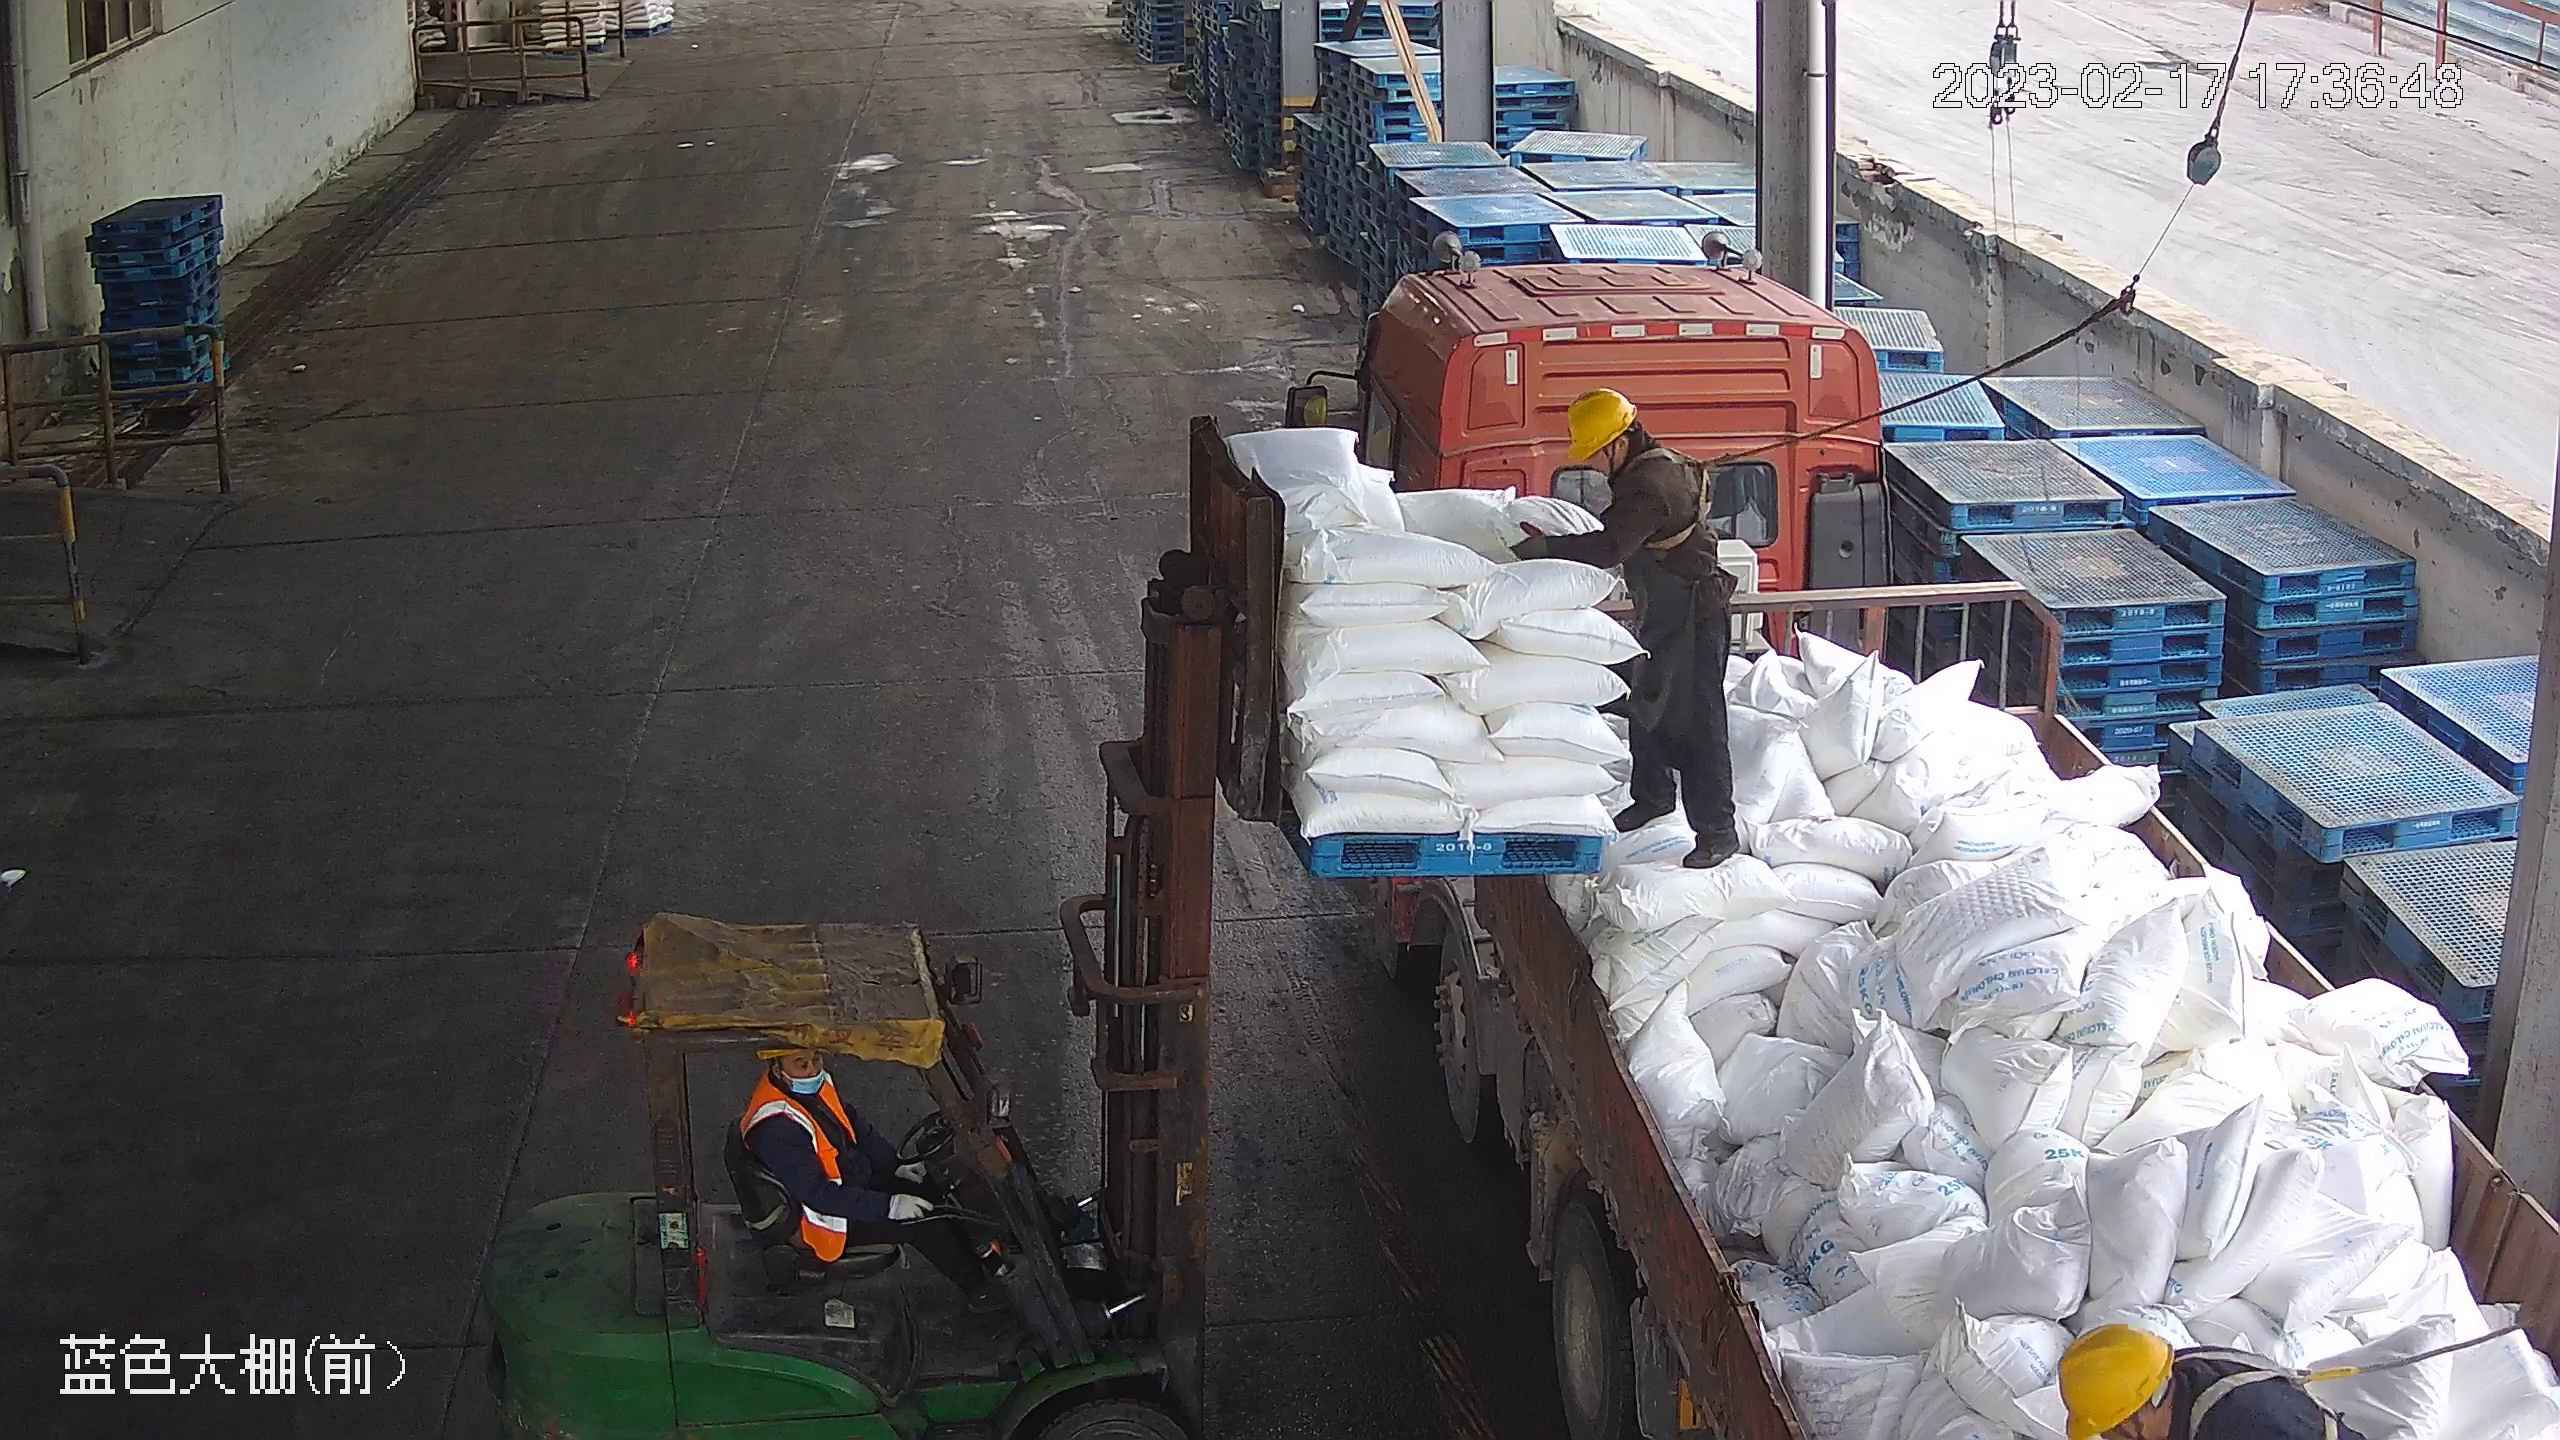belt: (2181, 1350, 2350, 1440), (1629, 438, 1737, 552)
head: (2066, 1327, 2303, 1440), (733, 1040, 872, 1174), (1560, 385, 1699, 515)
helmet: (2056, 1321, 2171, 1440), (1564, 385, 1638, 462)
people: (1512, 386, 1750, 867), (731, 1037, 977, 1335)
truck: (1272, 244, 2557, 1435)
